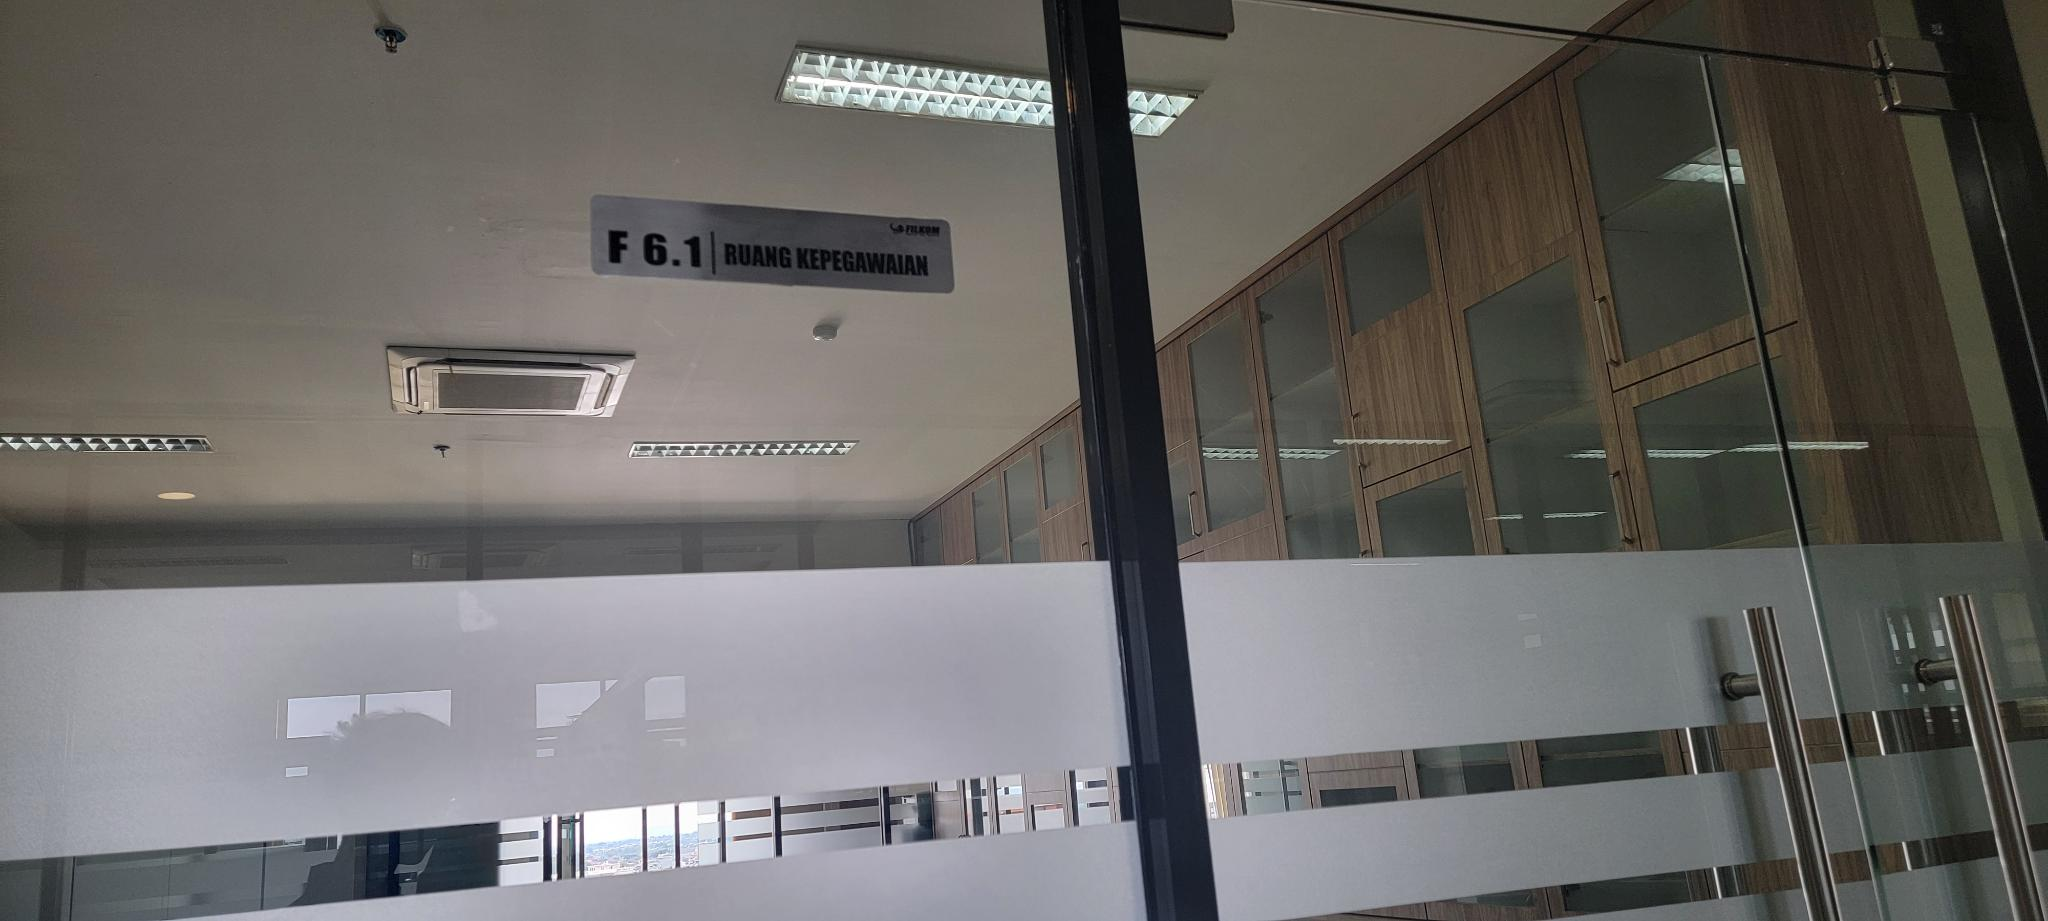plate: (588, 193, 956, 295)
